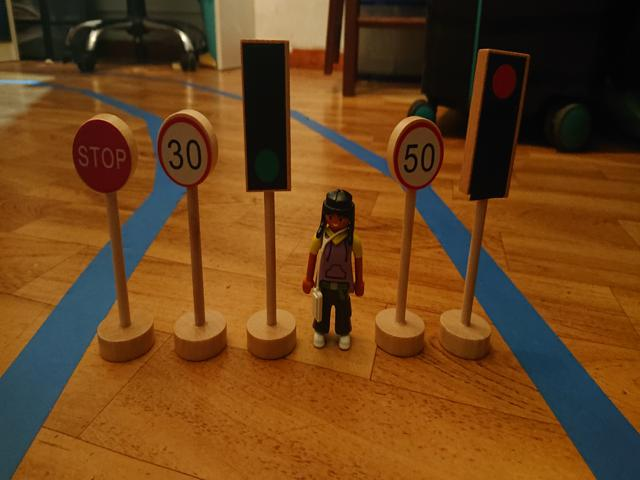30 speed sign: (154, 113, 214, 189)
50 speed sign: (392, 120, 445, 191)
green light: (246, 46, 283, 189)
person: (301, 188, 365, 352)
red light: (485, 54, 518, 188)
stop sign: (71, 117, 131, 195)
